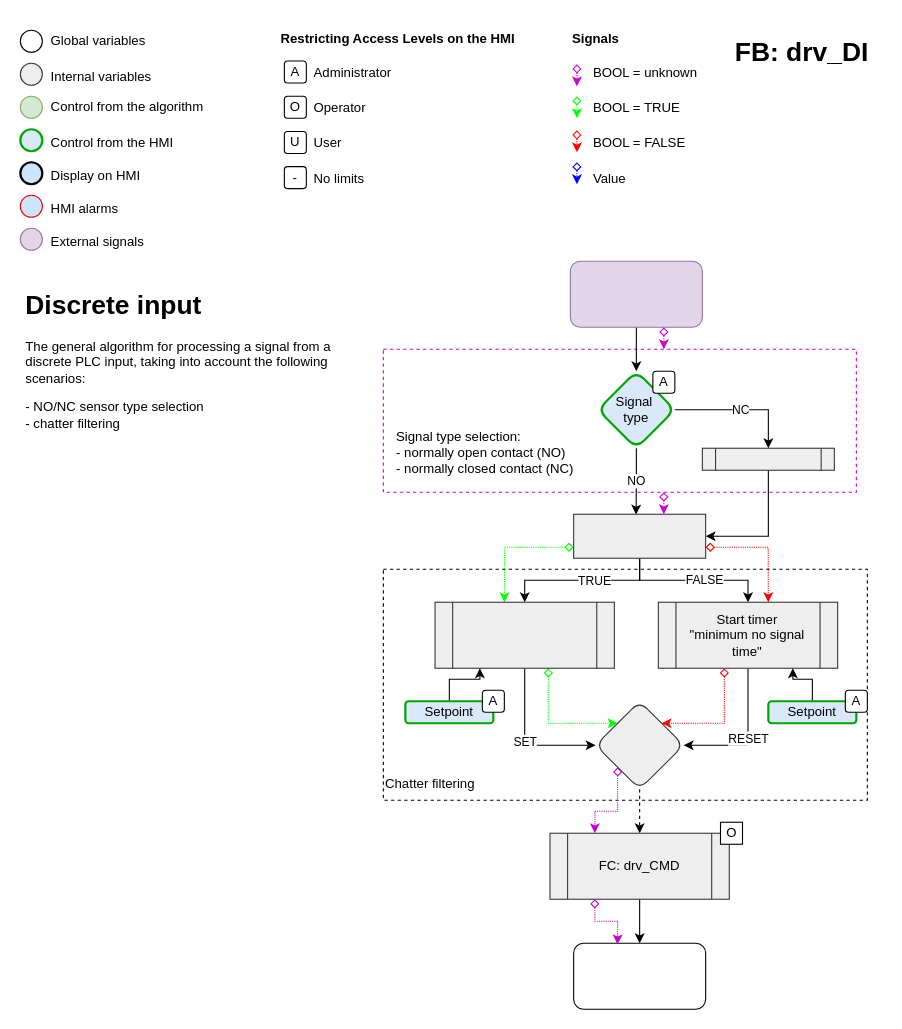
This 902x1029 diagram has some shape labels left out. Each missing label, with the centre of its shape:
AUTO START: [639,744]
Inverse: [767,458]
Phisical input: [635,293]
Signal: [639,535]
Signal state for algorythm: [639,975]
Start timer "minimum signal presence time": [524,634]
